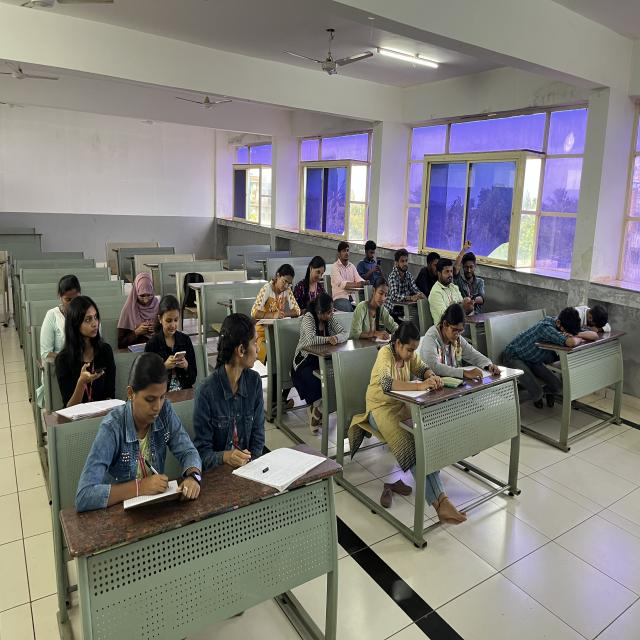Hand Rising: (454, 230, 489, 295)
Reading: (426, 301, 487, 384), (375, 322, 425, 414), (357, 278, 394, 344)
Sleeping: (502, 293, 581, 384), (572, 289, 622, 351)
Using Phone: (39, 300, 120, 388), (149, 294, 206, 388), (111, 258, 161, 344), (429, 256, 477, 325), (359, 232, 385, 283)
Writing: (201, 314, 305, 478), (96, 358, 205, 510), (253, 262, 296, 328)
